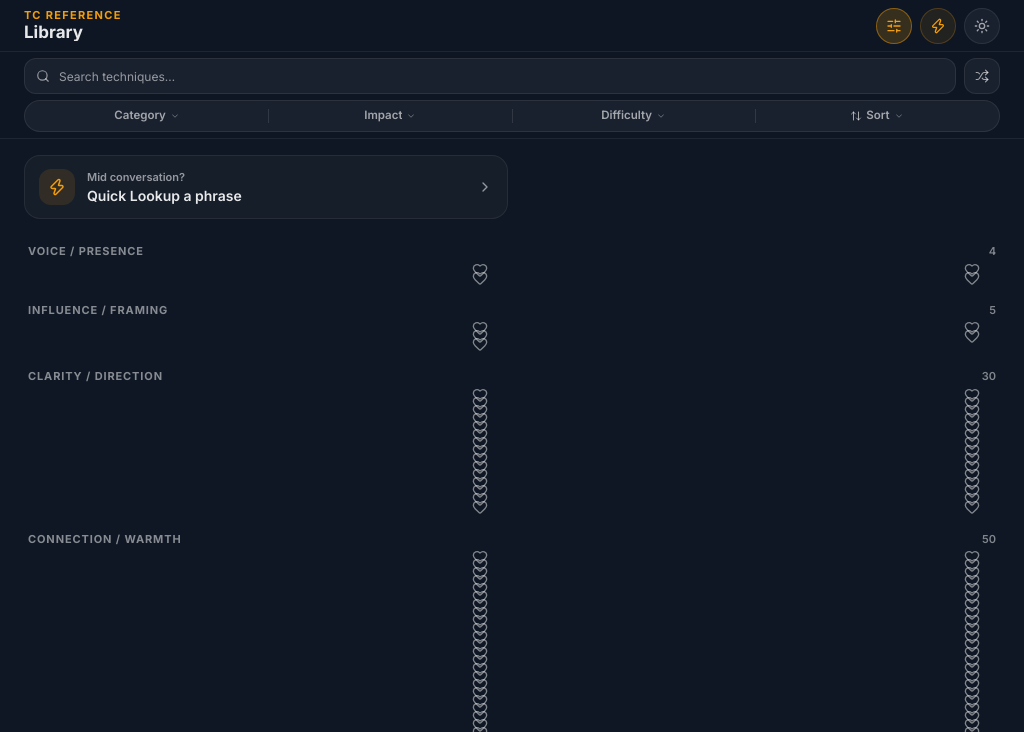
Scenario: Library smart search toggle › shows and hides the header details from the slider button
Step 1. Click the button with test id "button-header-details-toggle" → (894,26), box [876,8,912,44]
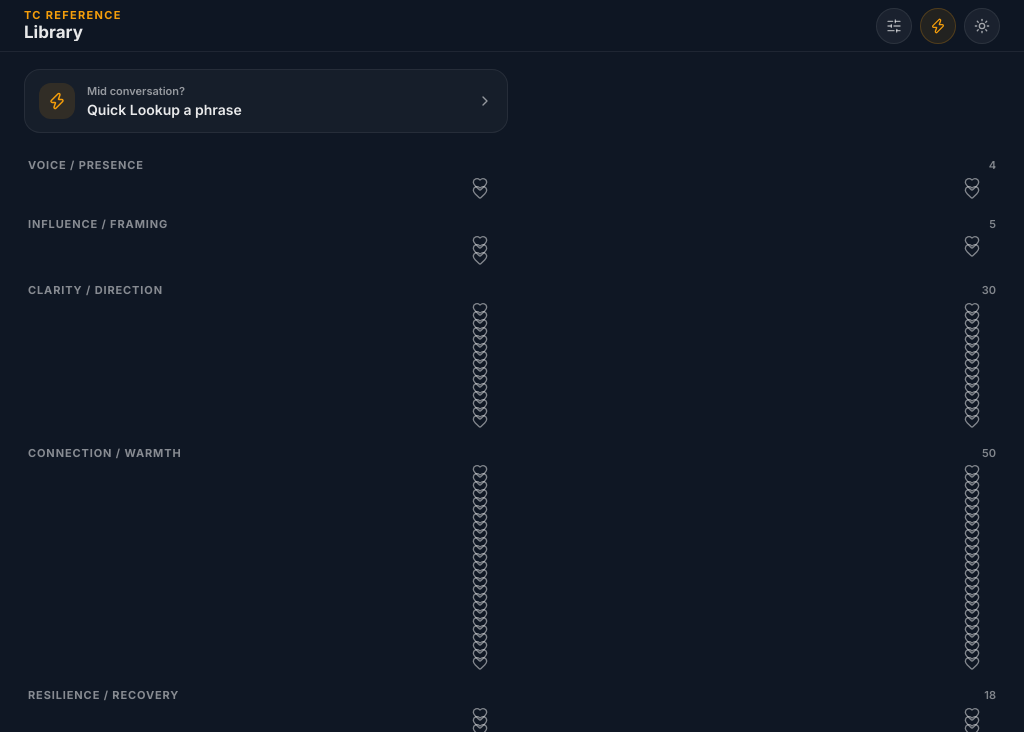
Expected: the button with test id "button-header-details-toggle" is collapsed
Step 2. Click the button with test id "button-header-details-toggle" → (894,26), box [876,8,912,44]
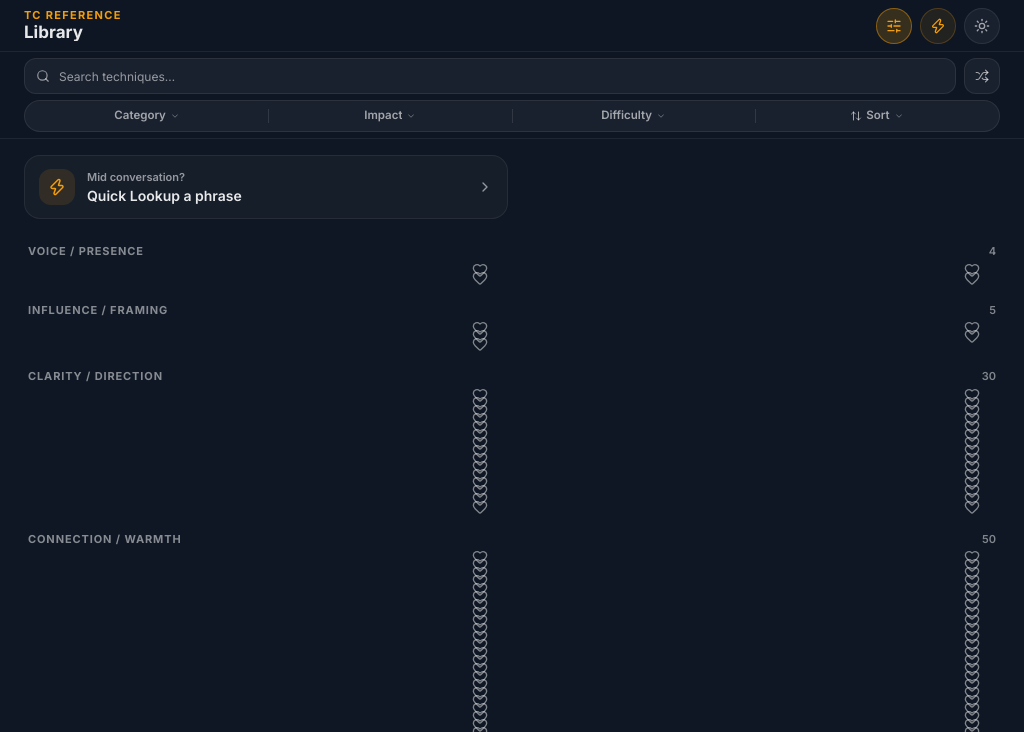
Expected: the button with test id "button-header-details-toggle" is expanded, [876,8,912,44]
